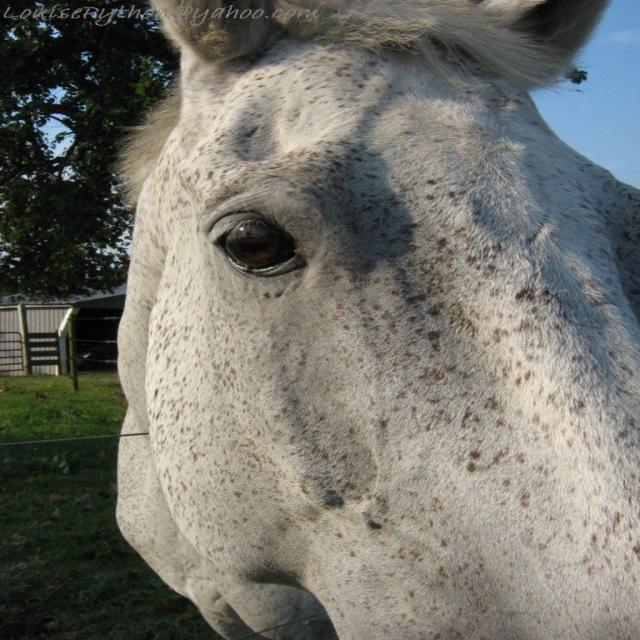Horse: (110, 0, 639, 639)
